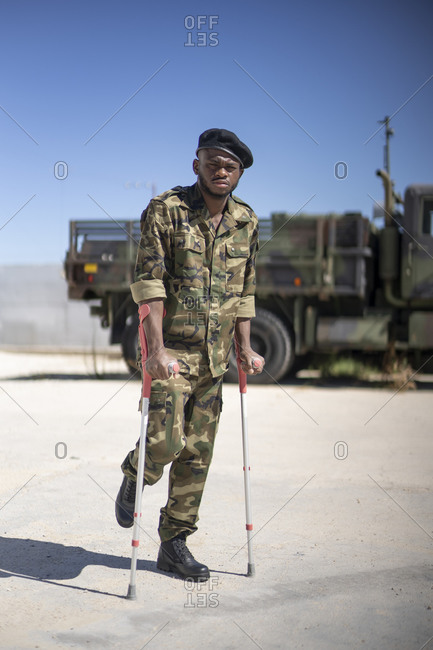crutches: (114, 127, 265, 601)
